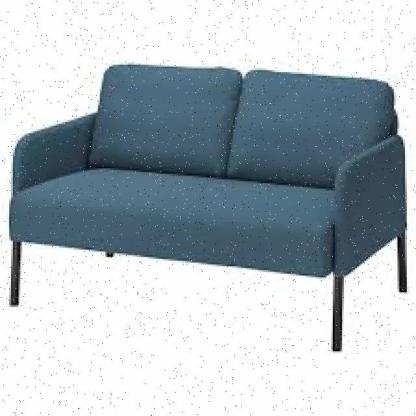Sofa: (1, 53, 415, 370)
